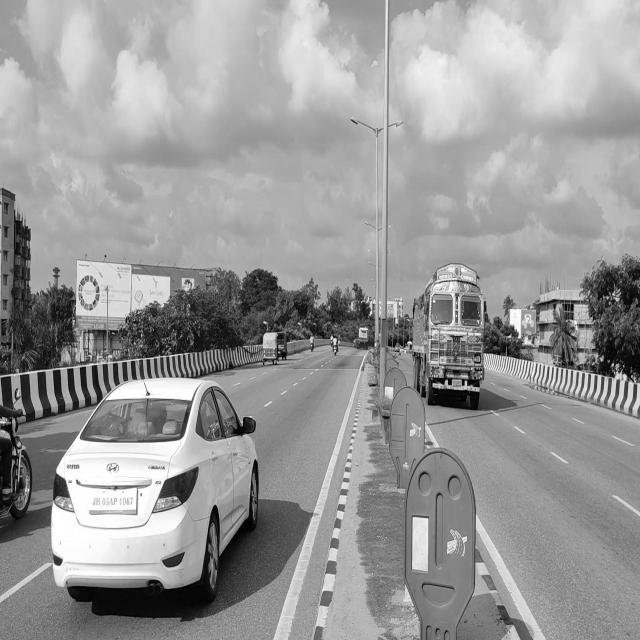car: (48, 373, 262, 615)
license-plate: (84, 485, 138, 511)
truck: (413, 262, 489, 410)
